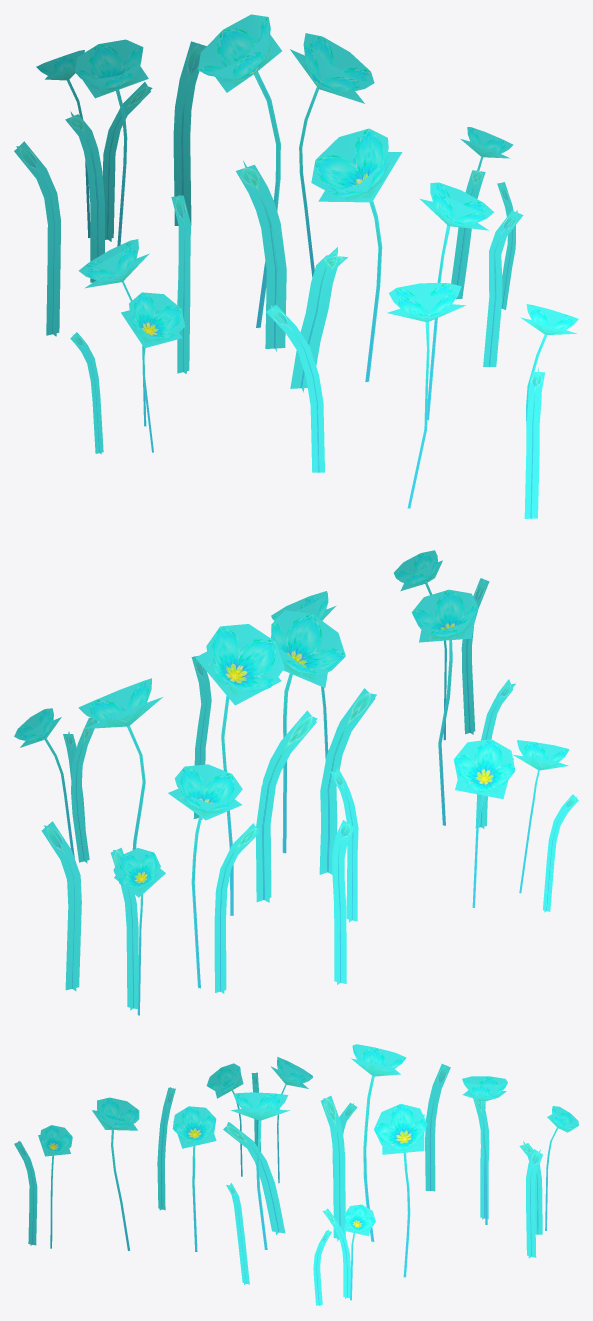
File: Homeworld_Exterior_Xm_Plant_Grass_HuaHai_02_Lod0.fbx
3 renders of one model, top to bottom at view 1: azimuth 30°, elevation 25°; view 2: azimuth 150°, elevation 25°; view 3: azimuth 270°, elevation 25°, orthographic. The views are drawn at different scales.
Parts seen in each view (by area): view 1: Area_Xm_Grass_CSDS_HuaCao_06_Lod0; view 2: Area_Xm_Grass_CSDS_HuaCao_06_Lod0; view 3: Area_Xm_Grass_CSDS_HuaCao_06_Lod0.
Boxes of the visible parts, x1=… form: Area_Xm_Grass_CSDS_HuaCao_06_Lod0: x1=14, y1=14, x2=578, y2=520; Area_Xm_Grass_CSDS_HuaCao_06_Lod0: x1=14, y1=550, x2=578, y2=1015; Area_Xm_Grass_CSDS_HuaCao_06_Lod0: x1=14, y1=1044, x2=578, y2=1306.
Size of the model in its own units: 4.32 by 2.7 by 6.3.
Materials: 1 (1 with a texture image).
